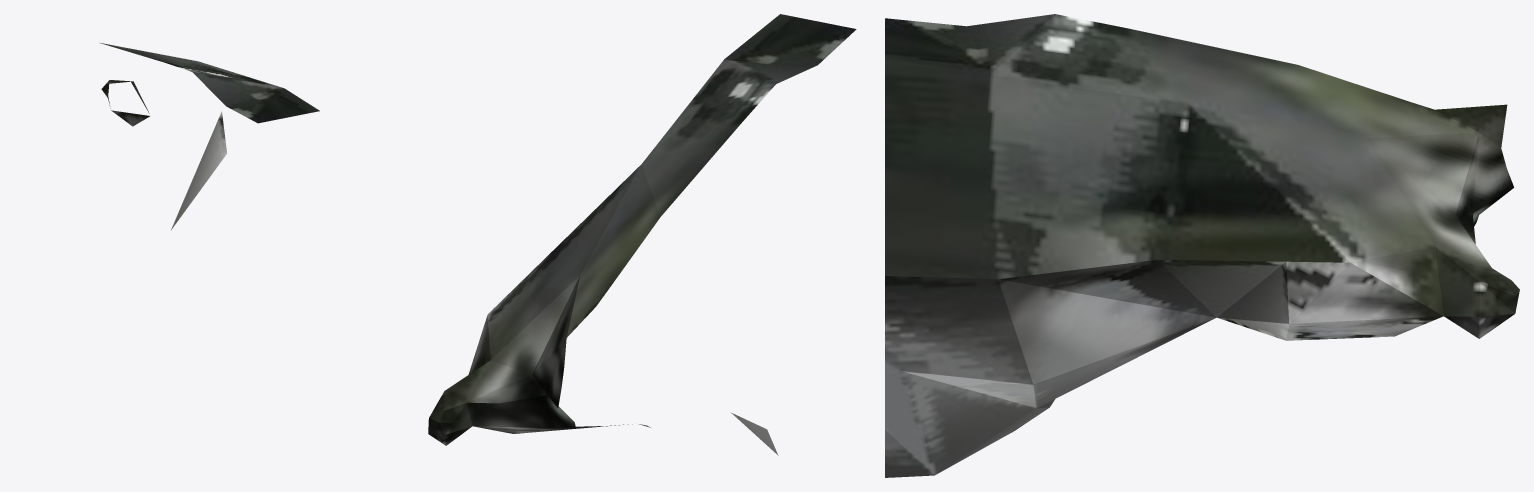
3 renders of one model, left to right at view 1: azimuth 30°, elevation 25°; view 2: azimuth 150°, elevation 25°; view 3: azimuth 270°, elevation 25°, orthographic. The views are drawn at different scales.
Bounding box in the file's own units: 0.2873 × 0.6833 × 0.8506.
1 material, 1 textured.
